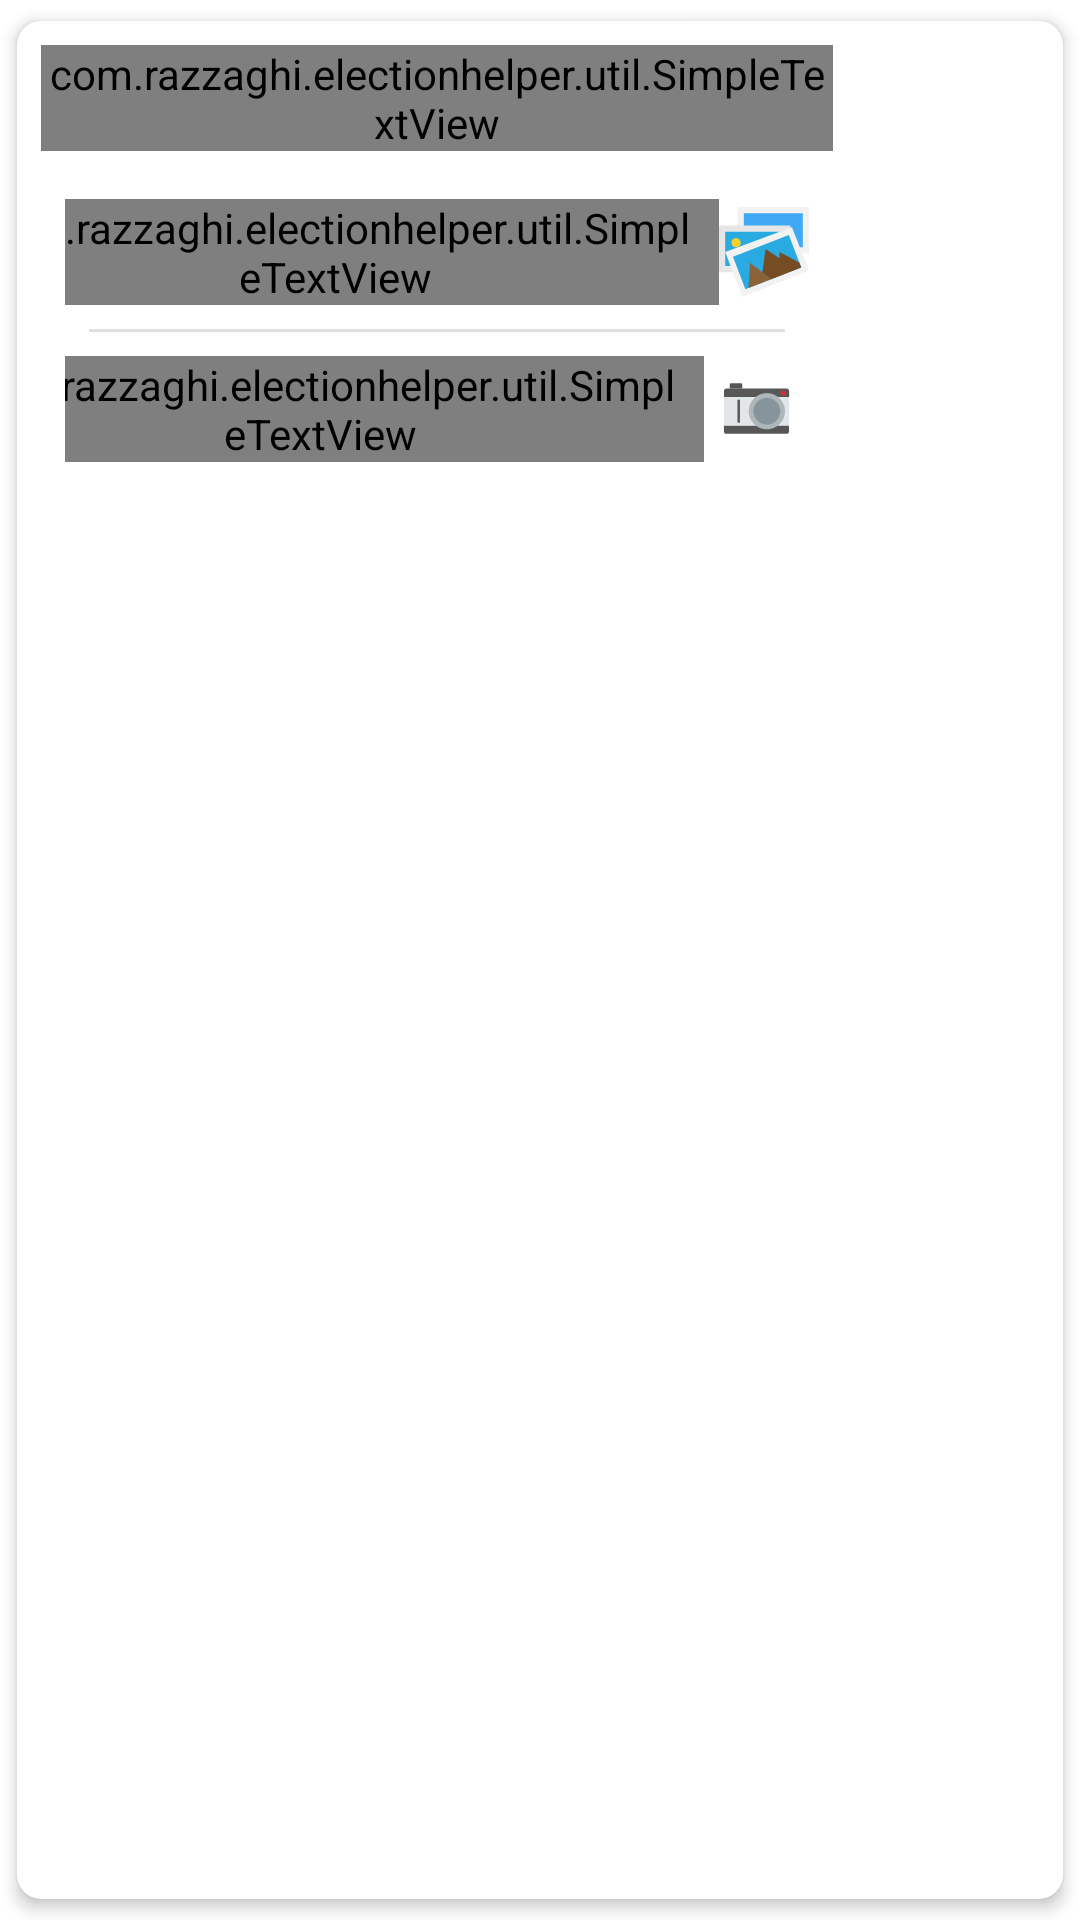

Point at icon controls on the screen. Image size 1080×1920, points as [x,y].
camera: [757,408]
gallery: [761,251]
